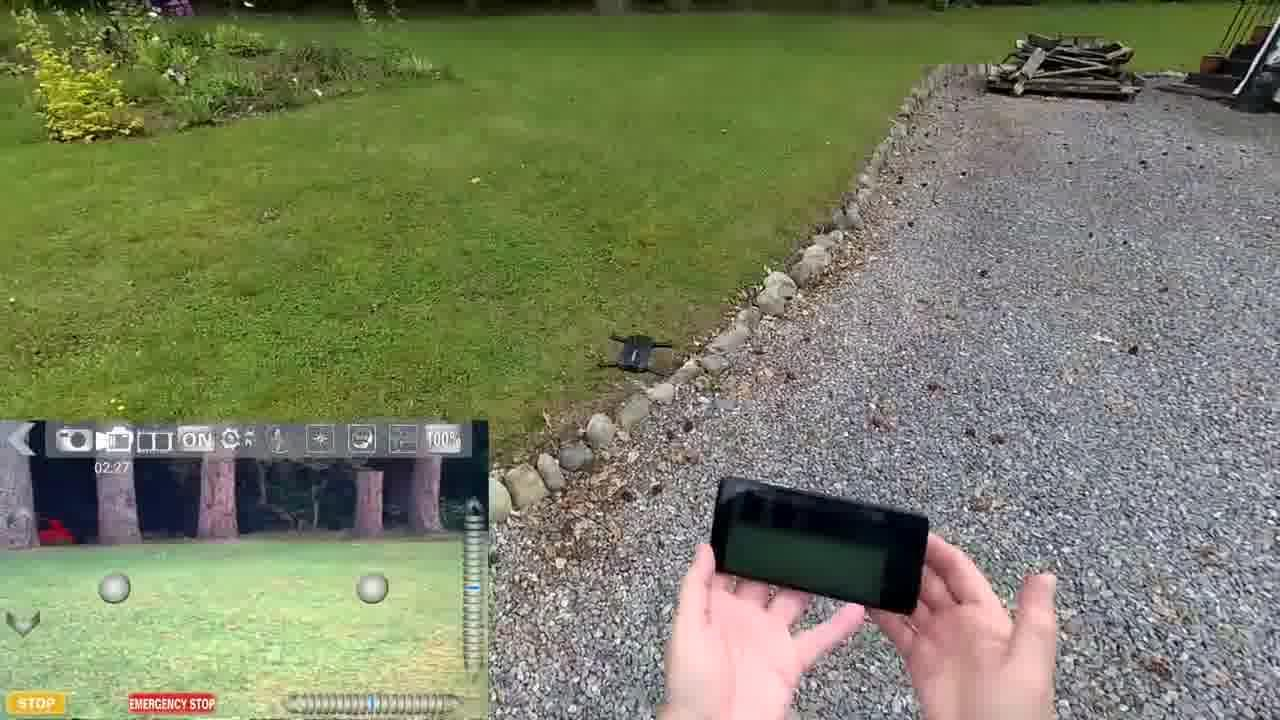drone: (589, 316, 690, 388)
